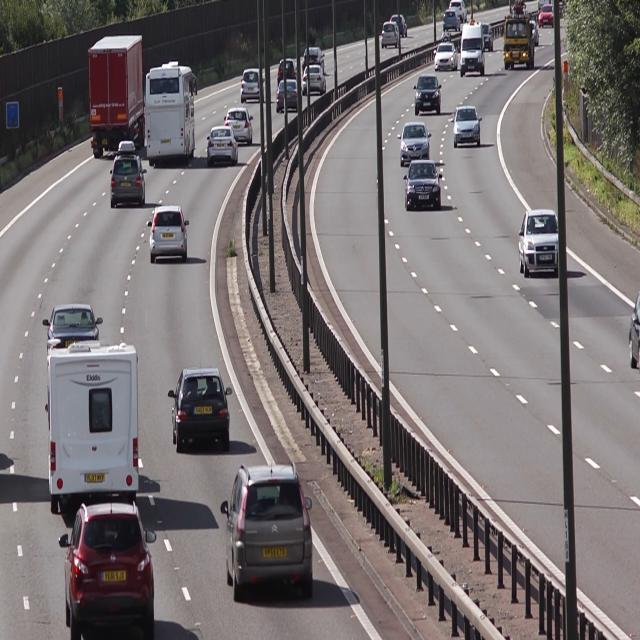Car: (45, 334, 143, 512), (60, 503, 156, 637), (224, 466, 316, 601), (90, 32, 146, 157), (144, 63, 198, 169), (169, 370, 231, 454), (42, 300, 105, 364), (516, 210, 564, 280), (108, 140, 148, 208), (149, 208, 191, 268), (502, 5, 536, 73), (405, 157, 444, 209), (398, 120, 432, 166), (461, 20, 487, 79), (451, 103, 482, 151), (413, 72, 444, 120), (205, 126, 238, 167), (225, 106, 254, 144), (274, 78, 304, 114), (241, 67, 266, 106), (303, 62, 329, 95), (434, 35, 457, 72), (381, 19, 400, 48)
